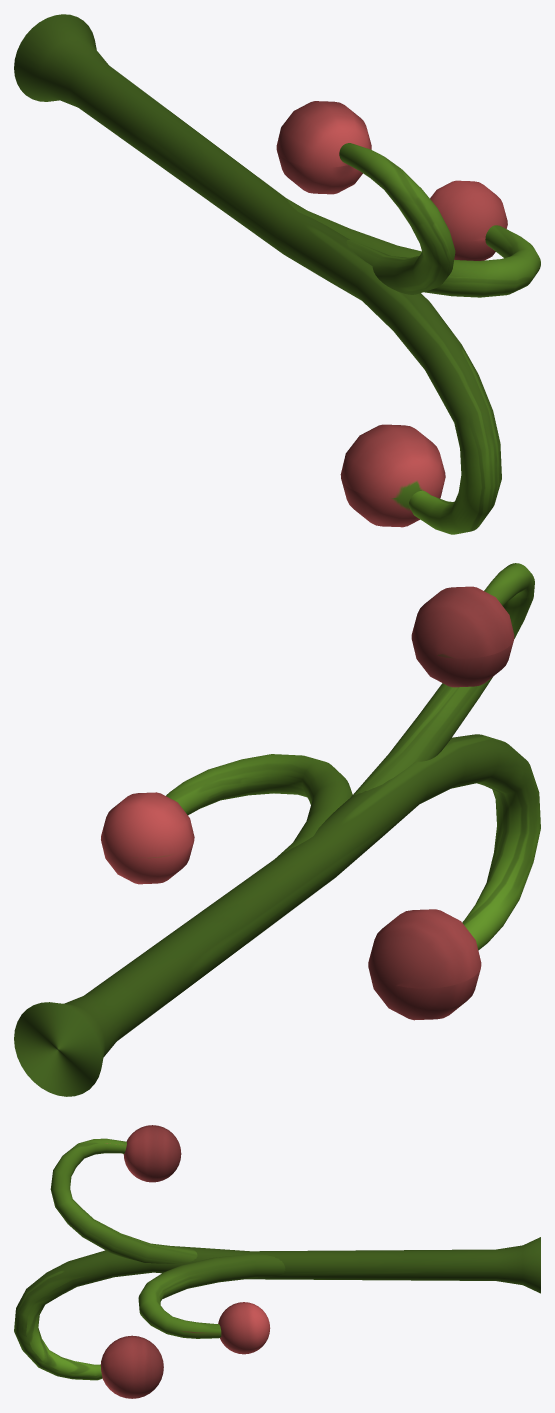
File: berries.obj
3 views of the same model, one above another, from view 1: azimuth 30°, elevation 25°; view 2: azimuth 150°, elevation 25°; view 3: azimuth 270°, elevation 25° (orthographic). The views are drawn at different scales.
Visible parts, largest first — view 1: berries; view 2: berries; view 3: berries.
Part boxes in pixels (x1,y1,x2,y2): berries: (14,14,540,534); berries: (14,563,540,1096); berries: (14,1125,540,1398).
Bounding box in the file's own units: 2.72 × 3.69 × 6.97.
